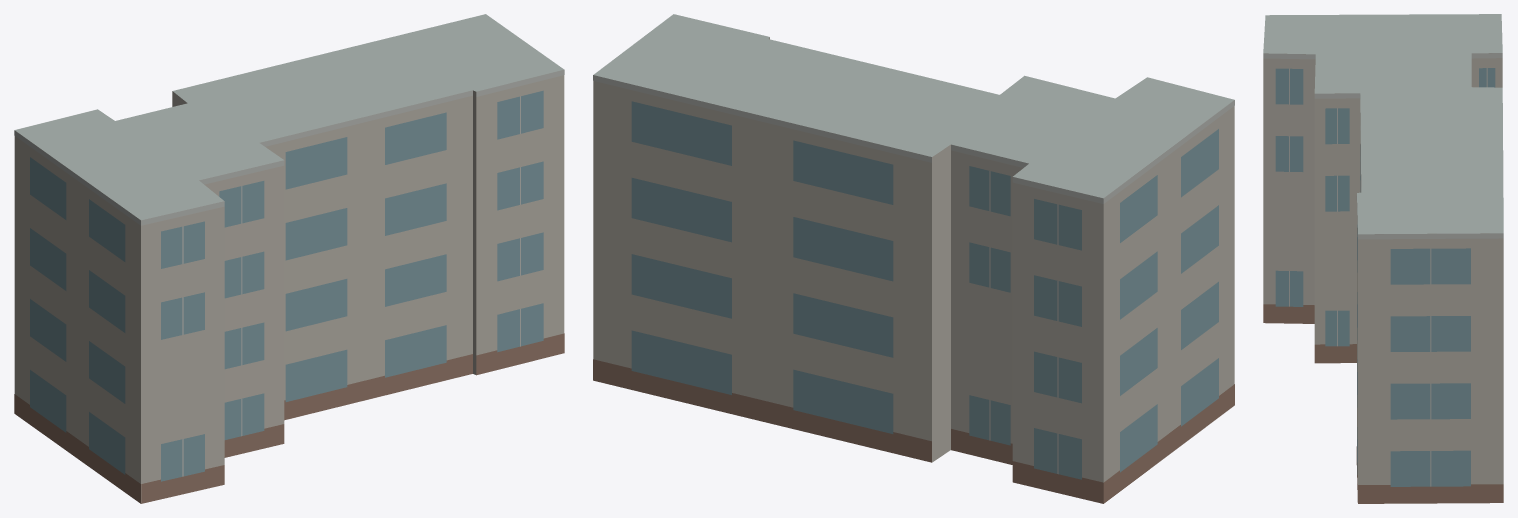
Rendered from survey-upis-32461487.glb.
3 renders of one model, left to right at view 1: azimuth 30°, elevation 25°; view 2: azimuth 150°, elevation 25°; view 3: azimuth 270°, elevation 25°, orthographic. The views are drawn at different scales.
Visible parts, largest first — view 1: survey-upis-32461487.tmp; view 2: survey-upis-32461487.tmp; view 3: survey-upis-32461487.tmp.
Boxes of the visible parts, x1,y1,x2,y2 form: survey-upis-32461487.tmp: [14, 14, 564, 503]; survey-upis-32461487.tmp: [593, 14, 1234, 503]; survey-upis-32461487.tmp: [1263, 14, 1503, 503].
Size of the model in its own units: 22.43 by 12.8 by 10.36.
